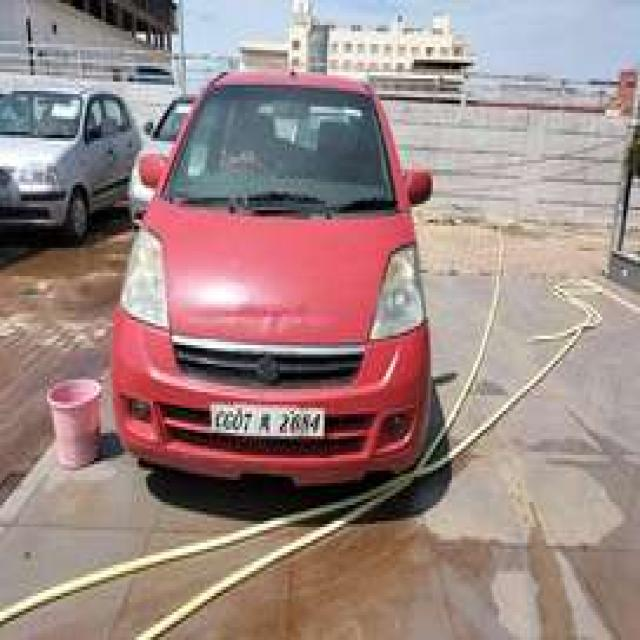Plate: (210, 399, 321, 434)
